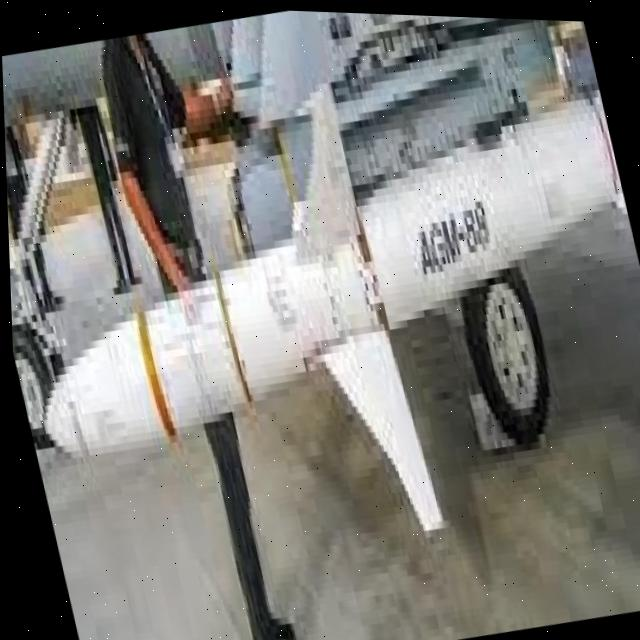missile: (0, 17, 640, 591)
